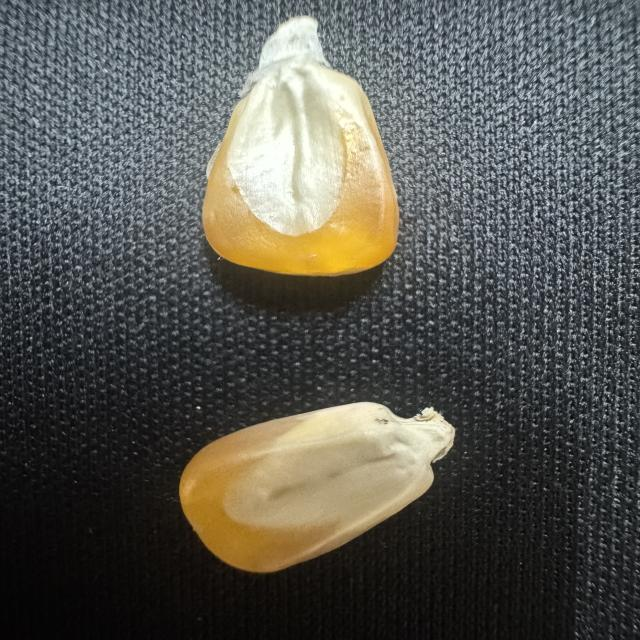Good-Seed: (183, 12, 414, 285), (175, 398, 462, 577)
